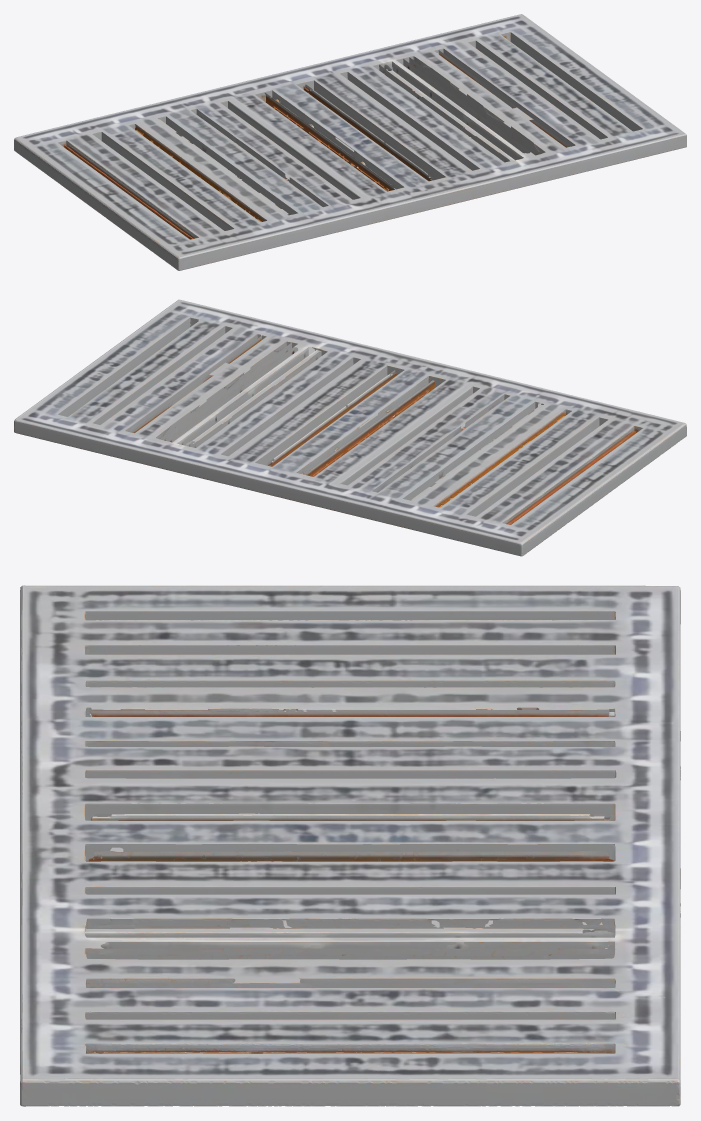
Rendered from lounge_ceiling.glb.
3 renders of one model, top to bottom at view 1: azimuth 30°, elevation 25°; view 2: azimuth 150°, elevation 25°; view 3: azimuth 270°, elevation 25°, orthographic. The views are drawn at different scales.
Visible parts, largest first — view 1: world; view 2: world; view 3: world.
Boxes of the visible parts, box(x1,y1,x2,y2) form: world: box(14, 14, 686, 270); world: box(14, 299, 686, 556); world: box(20, 585, 680, 1106).
Size of the model in its own units: 8 by 0.2 by 4.5.
1 material, 1 textured.
